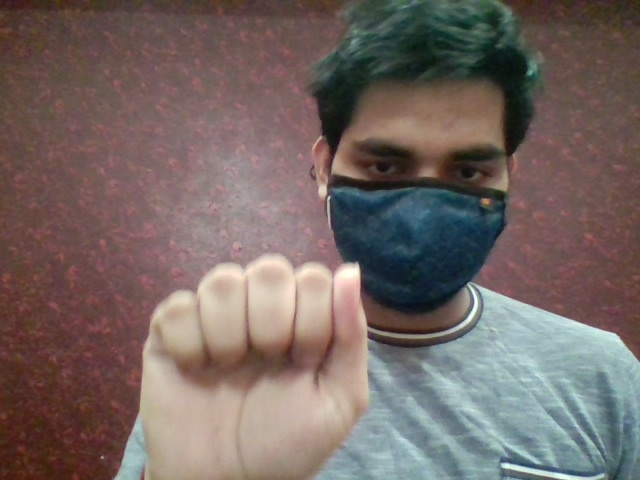a: (128, 244, 384, 473)
